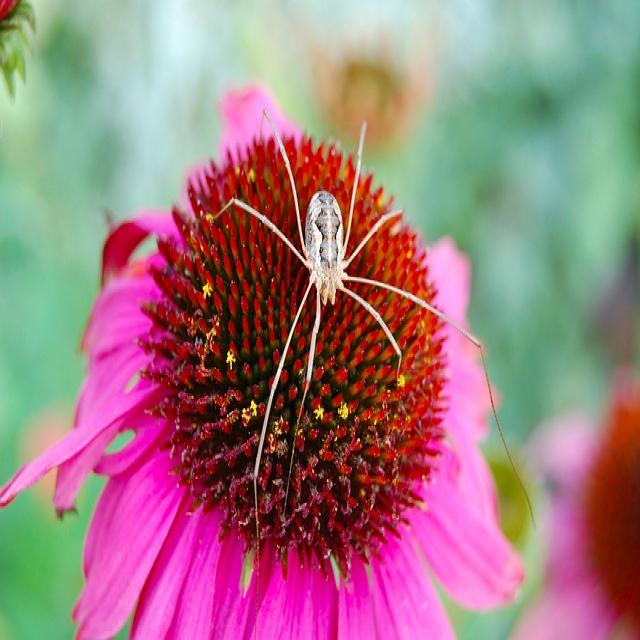spyder: (208, 115, 458, 541)
